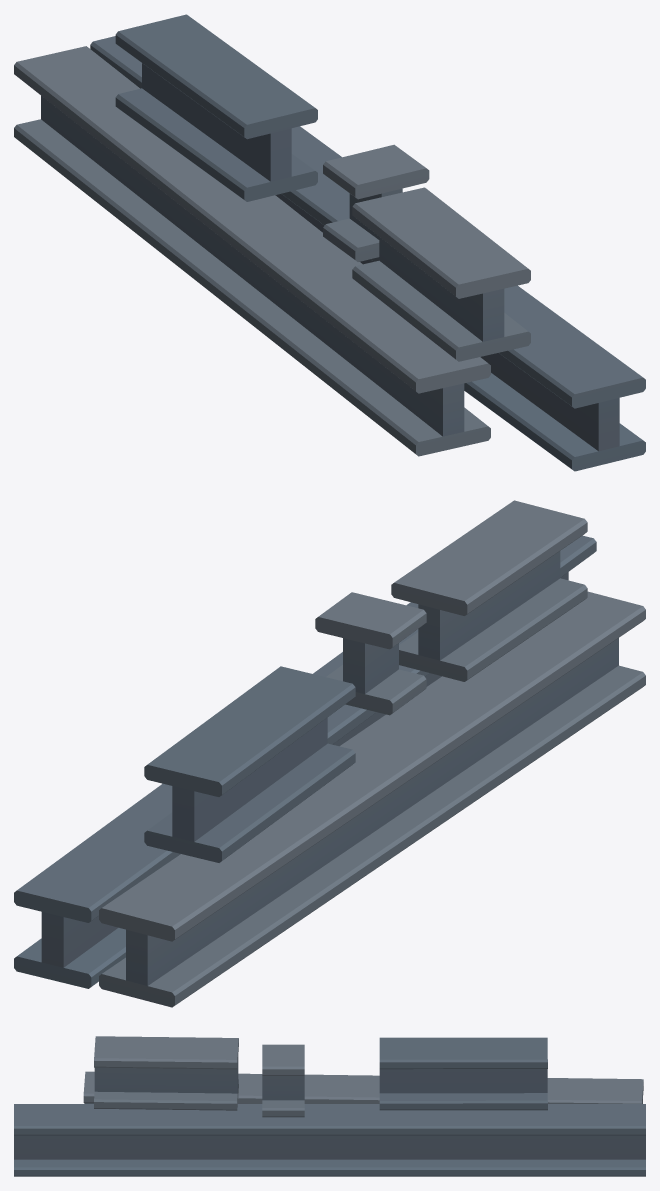
Rendered from Rails_C_4_2.fbx.
3 renders of one model, top to bottom at view 1: azimuth 30°, elevation 25°; view 2: azimuth 150°, elevation 25°; view 3: azimuth 270°, elevation 25°, orthographic. The views are drawn at different scales.
Visible parts, largest first — view 1: Rails_C_4_2; view 2: Rails_C_4_2; view 3: Rails_C_4_2.
Part boxes in pixels (x1,y1,x2,y2): Rails_C_4_2: [14, 14, 645, 471]; Rails_C_4_2: [14, 500, 645, 1007]; Rails_C_4_2: [14, 1036, 645, 1176].
Size of the model in its own units: 88.98 by 74.86 by 423.
